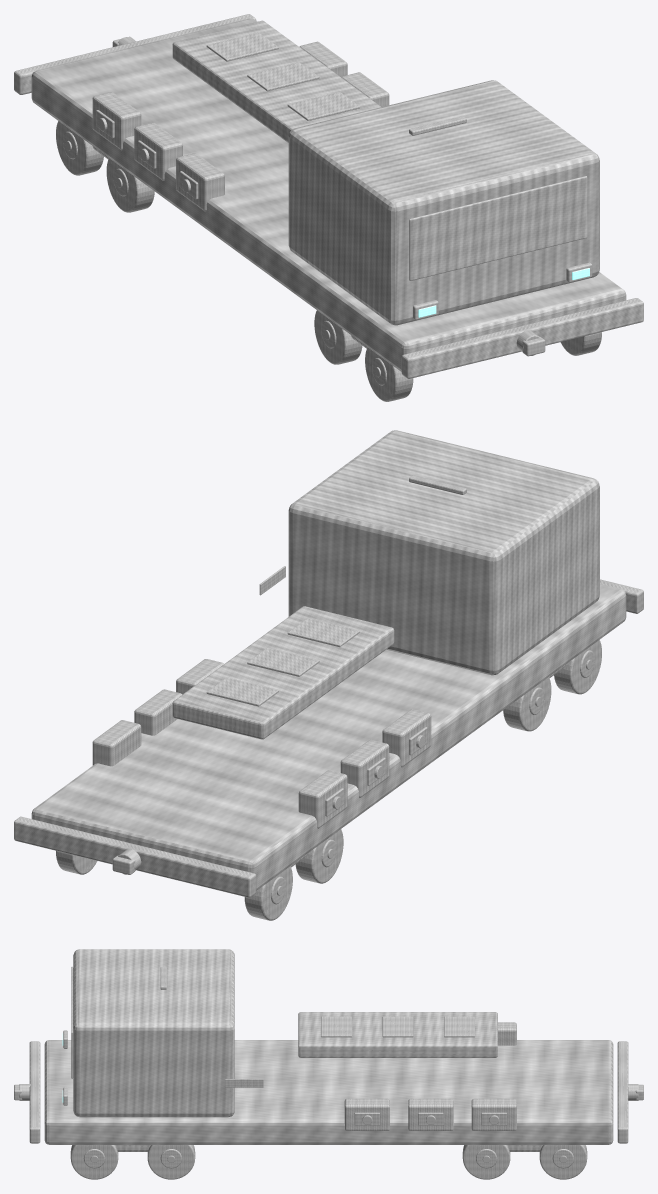
The model's file is locomotive_variant_a.glb.
3 views of the same model, one above another, from view 1: azimuth 30°, elevation 25°; view 2: azimuth 150°, elevation 25°; view 3: azimuth 270°, elevation 25° (orthographic). The views are drawn at different scales.
Parts seen in each view (by area): view 1: Front cab shell, Locomotive underframe, Front windshield, Roof equipment spine, Front buffer beam, Traction motor housing, Rear buffer beam, Traction motor housing.002, Traction motor housing.001, Rail wheel.004, Rail wheel, Rail wheel.002 (+7 smaller); view 2: Front cab shell, Locomotive underframe, Roof equipment spine, Rear buffer beam, Traction motor housing.002, Traction motor housing.005, Traction motor housing.001, Traction motor housing, Traction motor housing.004, Rail wheel.002, Rail wheel.006, Rail wheel.004 (+5 smaller); view 3: Locomotive underframe, Front cab shell, Roof equipment spine, Front buffer beam, Rear buffer beam, Traction motor housing.004, Traction motor housing.005, Traction motor housing.003, Rail wheel.001, Rail wheel.007, Rail wheel.003, Rail wheel.005 (+5 smaller).
Part boxes in pixels (x1=…): Front cab shell: x1=288, y1=80, x2=599, y2=325; Locomotive underframe: x1=31, y1=18, x2=626, y2=371; Front windshield: x1=409, y1=176, x2=587, y2=280; Roof equipment spine: x1=172, y1=20, x2=381, y2=142; Front buffer beam: x1=401, y1=298, x2=643, y2=378; Traction motor housing: x1=176, y1=153, x2=224, y2=211; Rear buffer beam: x1=14, y1=14, x2=256, y2=94; Traction motor housing.002: x1=92, y1=92, x2=141, y2=150; Traction motor housing.001: x1=134, y1=122, x2=182, y2=180; Rail wheel.004: x1=106, y1=158, x2=154, y2=212; Rail wheel: x1=365, y1=347, x2=413, y2=401; Rail wheel.002: x1=314, y1=310, x2=362, y2=364; Front cab shell: x1=288, y1=430, x2=599, y2=675; Locomotive underframe: x1=31, y1=584, x2=626, y2=890; Roof equipment spine: x1=172, y1=606, x2=394, y2=739; Rear buffer beam: x1=14, y1=816, x2=256, y2=897; Traction motor housing.002: x1=298, y1=770, x2=347, y2=828; Traction motor housing.005: x1=92, y1=720, x2=141, y2=766; Traction motor housing.001: x1=340, y1=739, x2=389, y2=797; Traction motor housing: x1=382, y1=709, x2=431, y2=767; Traction motor housing.004: x1=134, y1=689, x2=182, y2=735; Rail wheel.002: x1=503, y1=677, x2=551, y2=731; Rail wheel.006: x1=244, y1=866, x2=292, y2=920; Rail wheel.004: x1=295, y1=829, x2=343, y2=883; Locomotive underframe: x1=44, y1=1040, x2=613, y2=1144; Front cab shell: x1=73, y1=949, x2=234, y2=1117; Roof equipment spine: x1=298, y1=1012, x2=497, y2=1057; Front buffer beam: x1=29, y1=1041, x2=40, y2=1143; Rear buffer beam: x1=617, y1=1041, x2=628, y2=1143; Traction motor housing.004: x1=408, y1=1098, x2=453, y2=1130; Traction motor housing.005: x1=471, y1=1098, x2=516, y2=1130; Traction motor housing.003: x1=344, y1=1098, x2=389, y2=1130; Rail wheel.001: x1=70, y1=1145, x2=118, y2=1179; Rail wheel.007: x1=539, y1=1145, x2=587, y2=1179; Rail wheel.003: x1=147, y1=1145, x2=195, y2=1179; Rail wheel.005: x1=462, y1=1145, x2=510, y2=1179.
Size of what is drawn, in the model's own units: 5.4 by 4.74 by 16.39.
6 materials, 6 textured.
